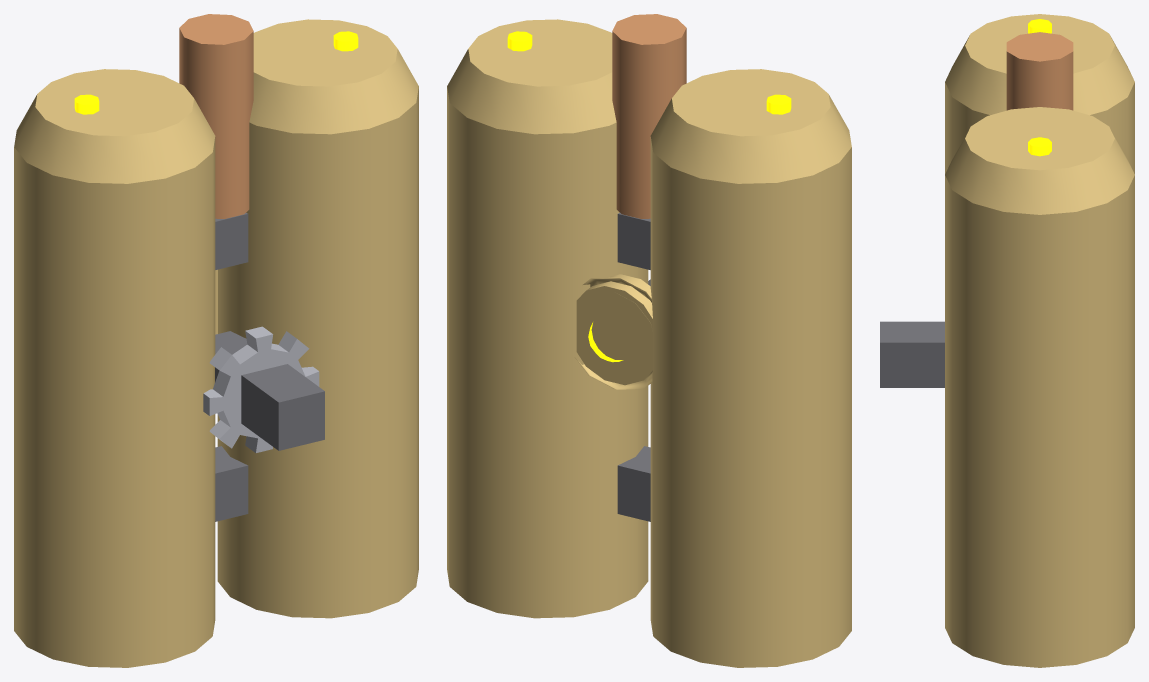
The model's file is steam_backpack.glb.
The picture shows the model from 3 angles, left to right: view 1: azimuth 30°, elevation 25°; view 2: azimuth 150°, elevation 25°; view 3: azimuth 270°, elevation 25°; orthographic projection. The views are drawn at different scales.
Parts seen in each view (by area): view 1: tanks, chimney, frame, gear, glow; view 2: tanks, chimney, valve, frame, glow; view 3: tanks, chimney, frame, glow.
Part boxes in pixels (box(x1,y1,x2,y2)): tanks: box(14, 19, 418, 667); chimney: box(179, 14, 253, 218); frame: box(215, 213, 324, 521); gear: box(203, 326, 319, 452); glow: box(74, 31, 358, 114); tanks: box(447, 19, 851, 667); chimney: box(612, 14, 686, 218); valve: box(575, 274, 652, 389); frame: box(617, 213, 650, 521); glow: box(507, 31, 791, 362); tanks: box(945, 14, 1134, 667); chimney: box(1006, 32, 1073, 110); frame: box(880, 321, 944, 387); glow: box(1028, 19, 1051, 156).
Bounding box in the file's own units: 0.41 × 0.59 × 0.255.
